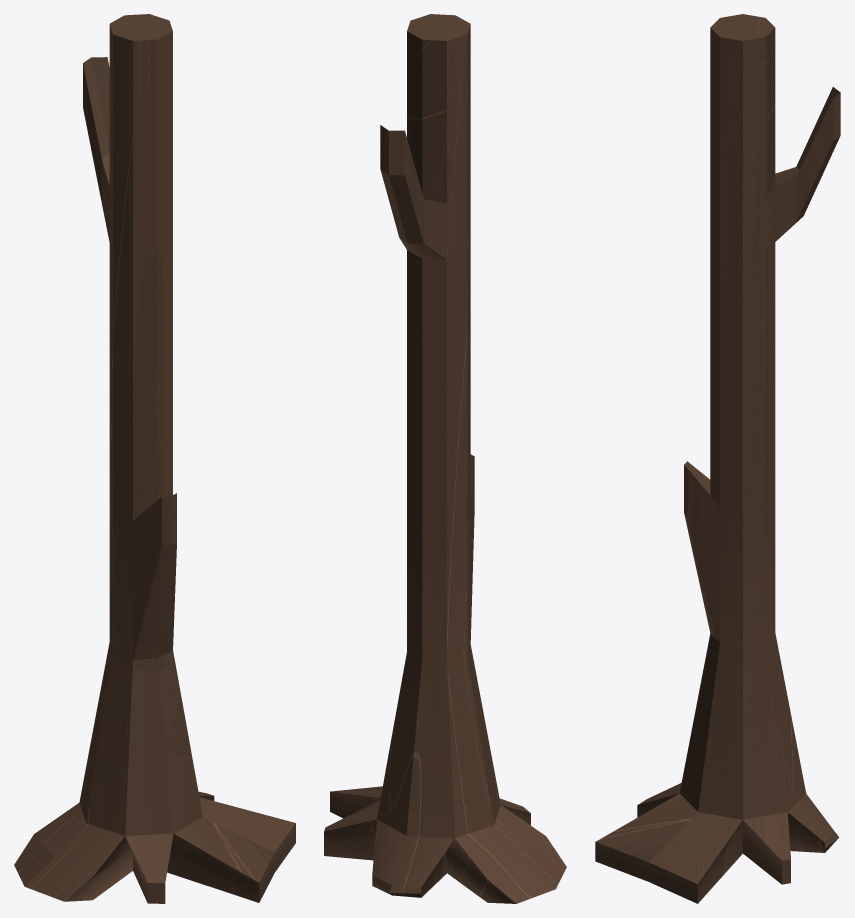
Rendered from tree03.fbx.
3 renders of one model, left to right at view 1: azimuth 30°, elevation 25°; view 2: azimuth 150°, elevation 25°; view 3: azimuth 270°, elevation 25°, orthographic. The views are drawn at different scales.
Visible parts, largest first — view 1: tree03; view 2: tree03; view 3: tree03.
Part boxes in pixels (x1,y1,x2,y2): tree03: [14, 14, 295, 903]; tree03: [324, 14, 566, 903]; tree03: [595, 14, 840, 903].
Bounding box in the file's own units: 4.83 × 15.47 × 4.22.
